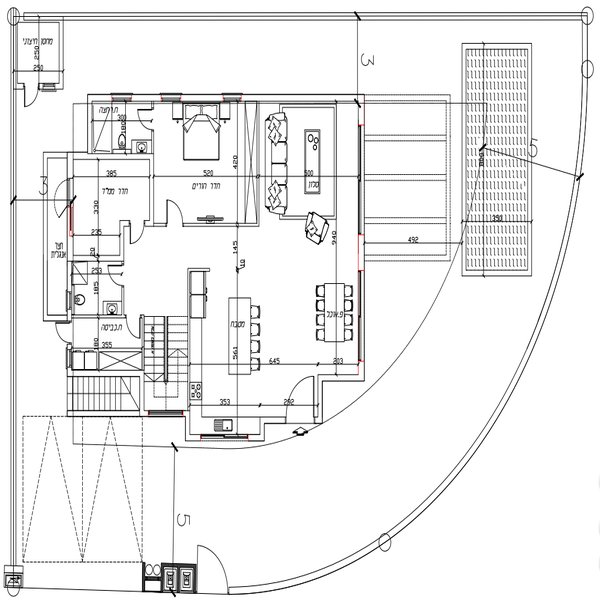door: (288, 375, 319, 428), (108, 260, 132, 290), (137, 104, 159, 134), (166, 197, 185, 231), (119, 221, 147, 244), (55, 316, 77, 345), (127, 314, 145, 341)
room: (186, 224, 371, 441), (149, 76, 266, 235), (262, 84, 375, 226), (60, 241, 145, 369), (61, 144, 157, 244)
wall: (246, 91, 366, 104), (142, 153, 162, 226), (184, 219, 262, 233), (82, 93, 99, 154), (64, 151, 156, 161), (182, 91, 219, 109), (317, 370, 330, 421), (356, 230, 369, 268), (321, 375, 366, 384)
window: (351, 269, 368, 359), (355, 128, 369, 234), (201, 431, 248, 444), (148, 408, 182, 420), (162, 90, 183, 106), (110, 91, 130, 104)
